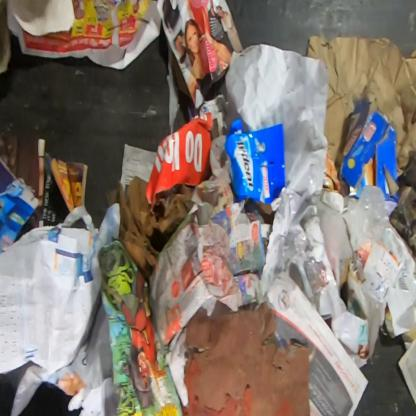cardboard: (340, 97, 400, 218), (224, 117, 286, 205), (0, 156, 41, 255)
soft_plastic: (342, 184, 390, 252)
